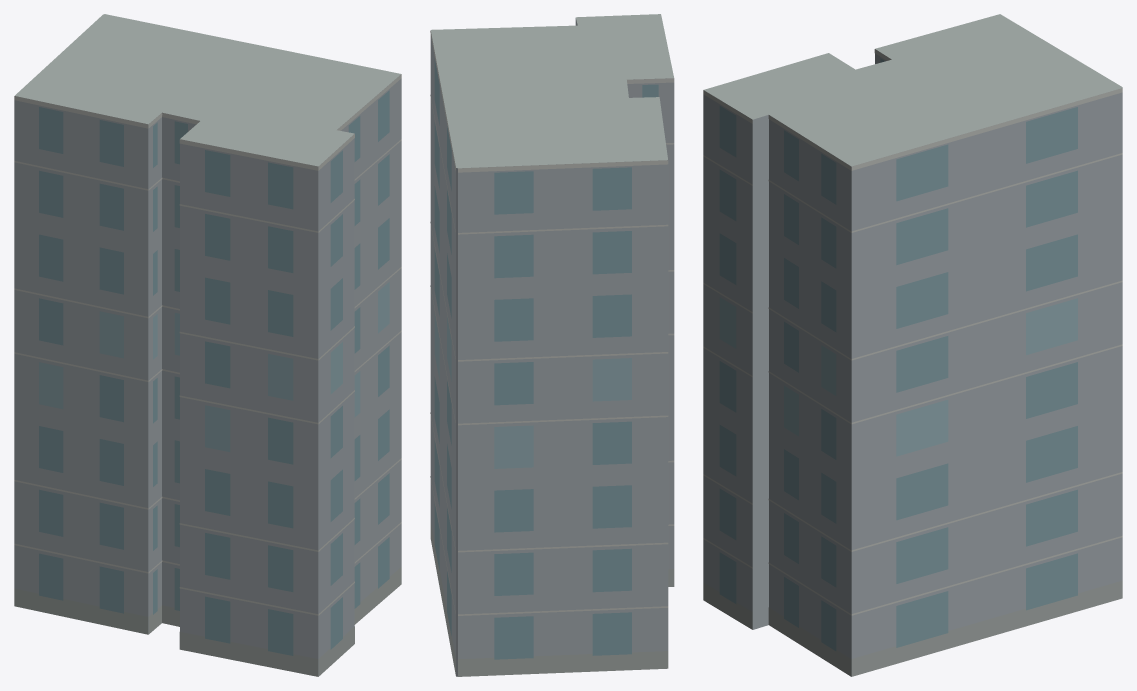
File: survey-upis-32666853.glb
The picture shows the model from 3 angles, left to right: view 1: azimuth 30°, elevation 25°; view 2: azimuth 150°, elevation 25°; view 3: azimuth 270°, elevation 25°; orthographic projection.
Parts seen in each view (by area): view 1: survey-upis-32666853.tmp; view 2: survey-upis-32666853.tmp; view 3: survey-upis-32666853.tmp.
Boxes of the visible parts, x1,y1,x2,y2 form: survey-upis-32666853.tmp: (14, 14, 401, 676); survey-upis-32666853.tmp: (430, 14, 674, 676); survey-upis-32666853.tmp: (703, 14, 1122, 676).
Bounding box in the file's own units: 18.23 × 28.4 × 21.16.
